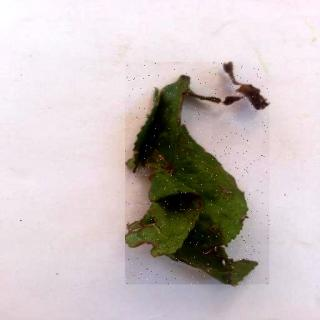Brown Blight: (126, 63, 271, 285)
